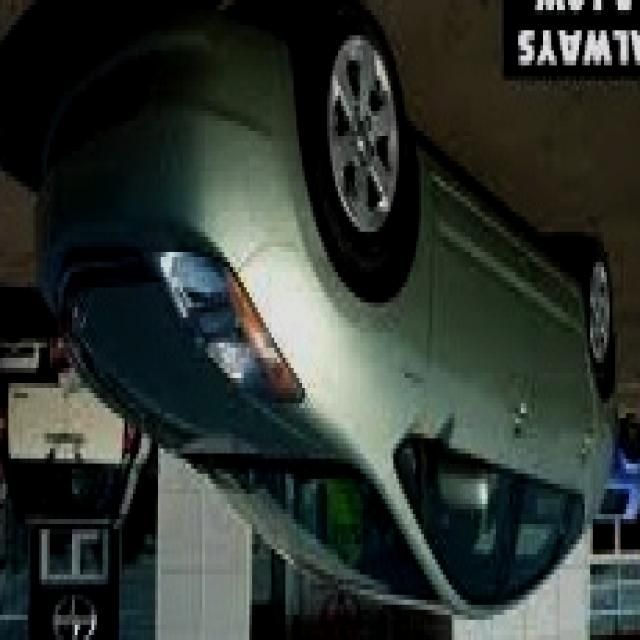green: (33, 0, 618, 622)
